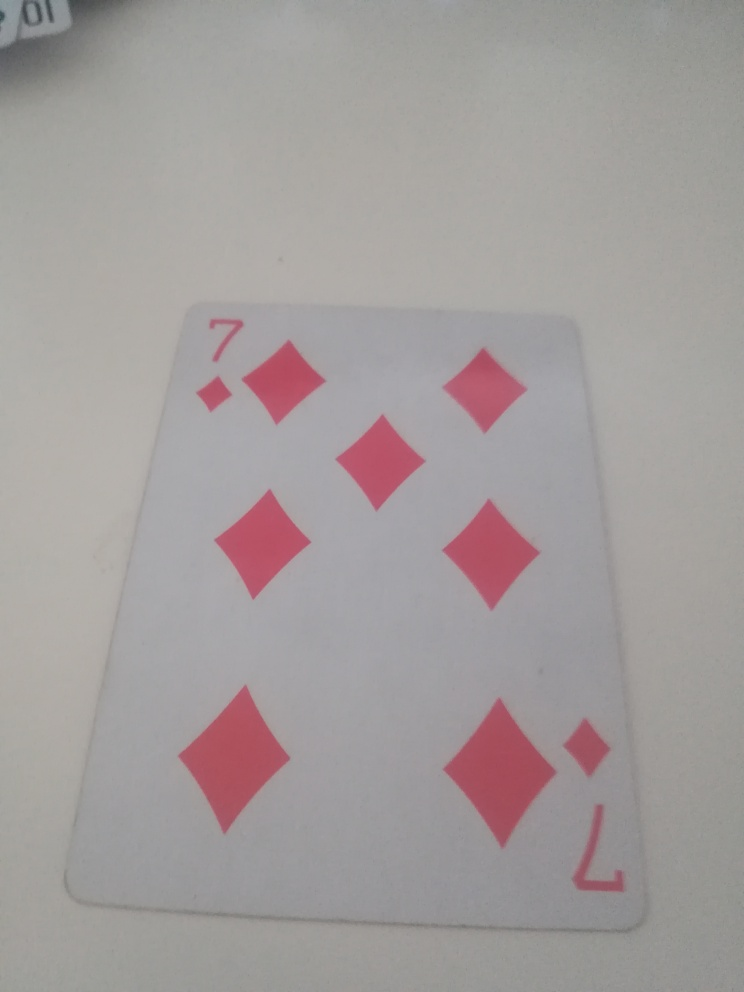7D: (184, 312, 247, 416)
